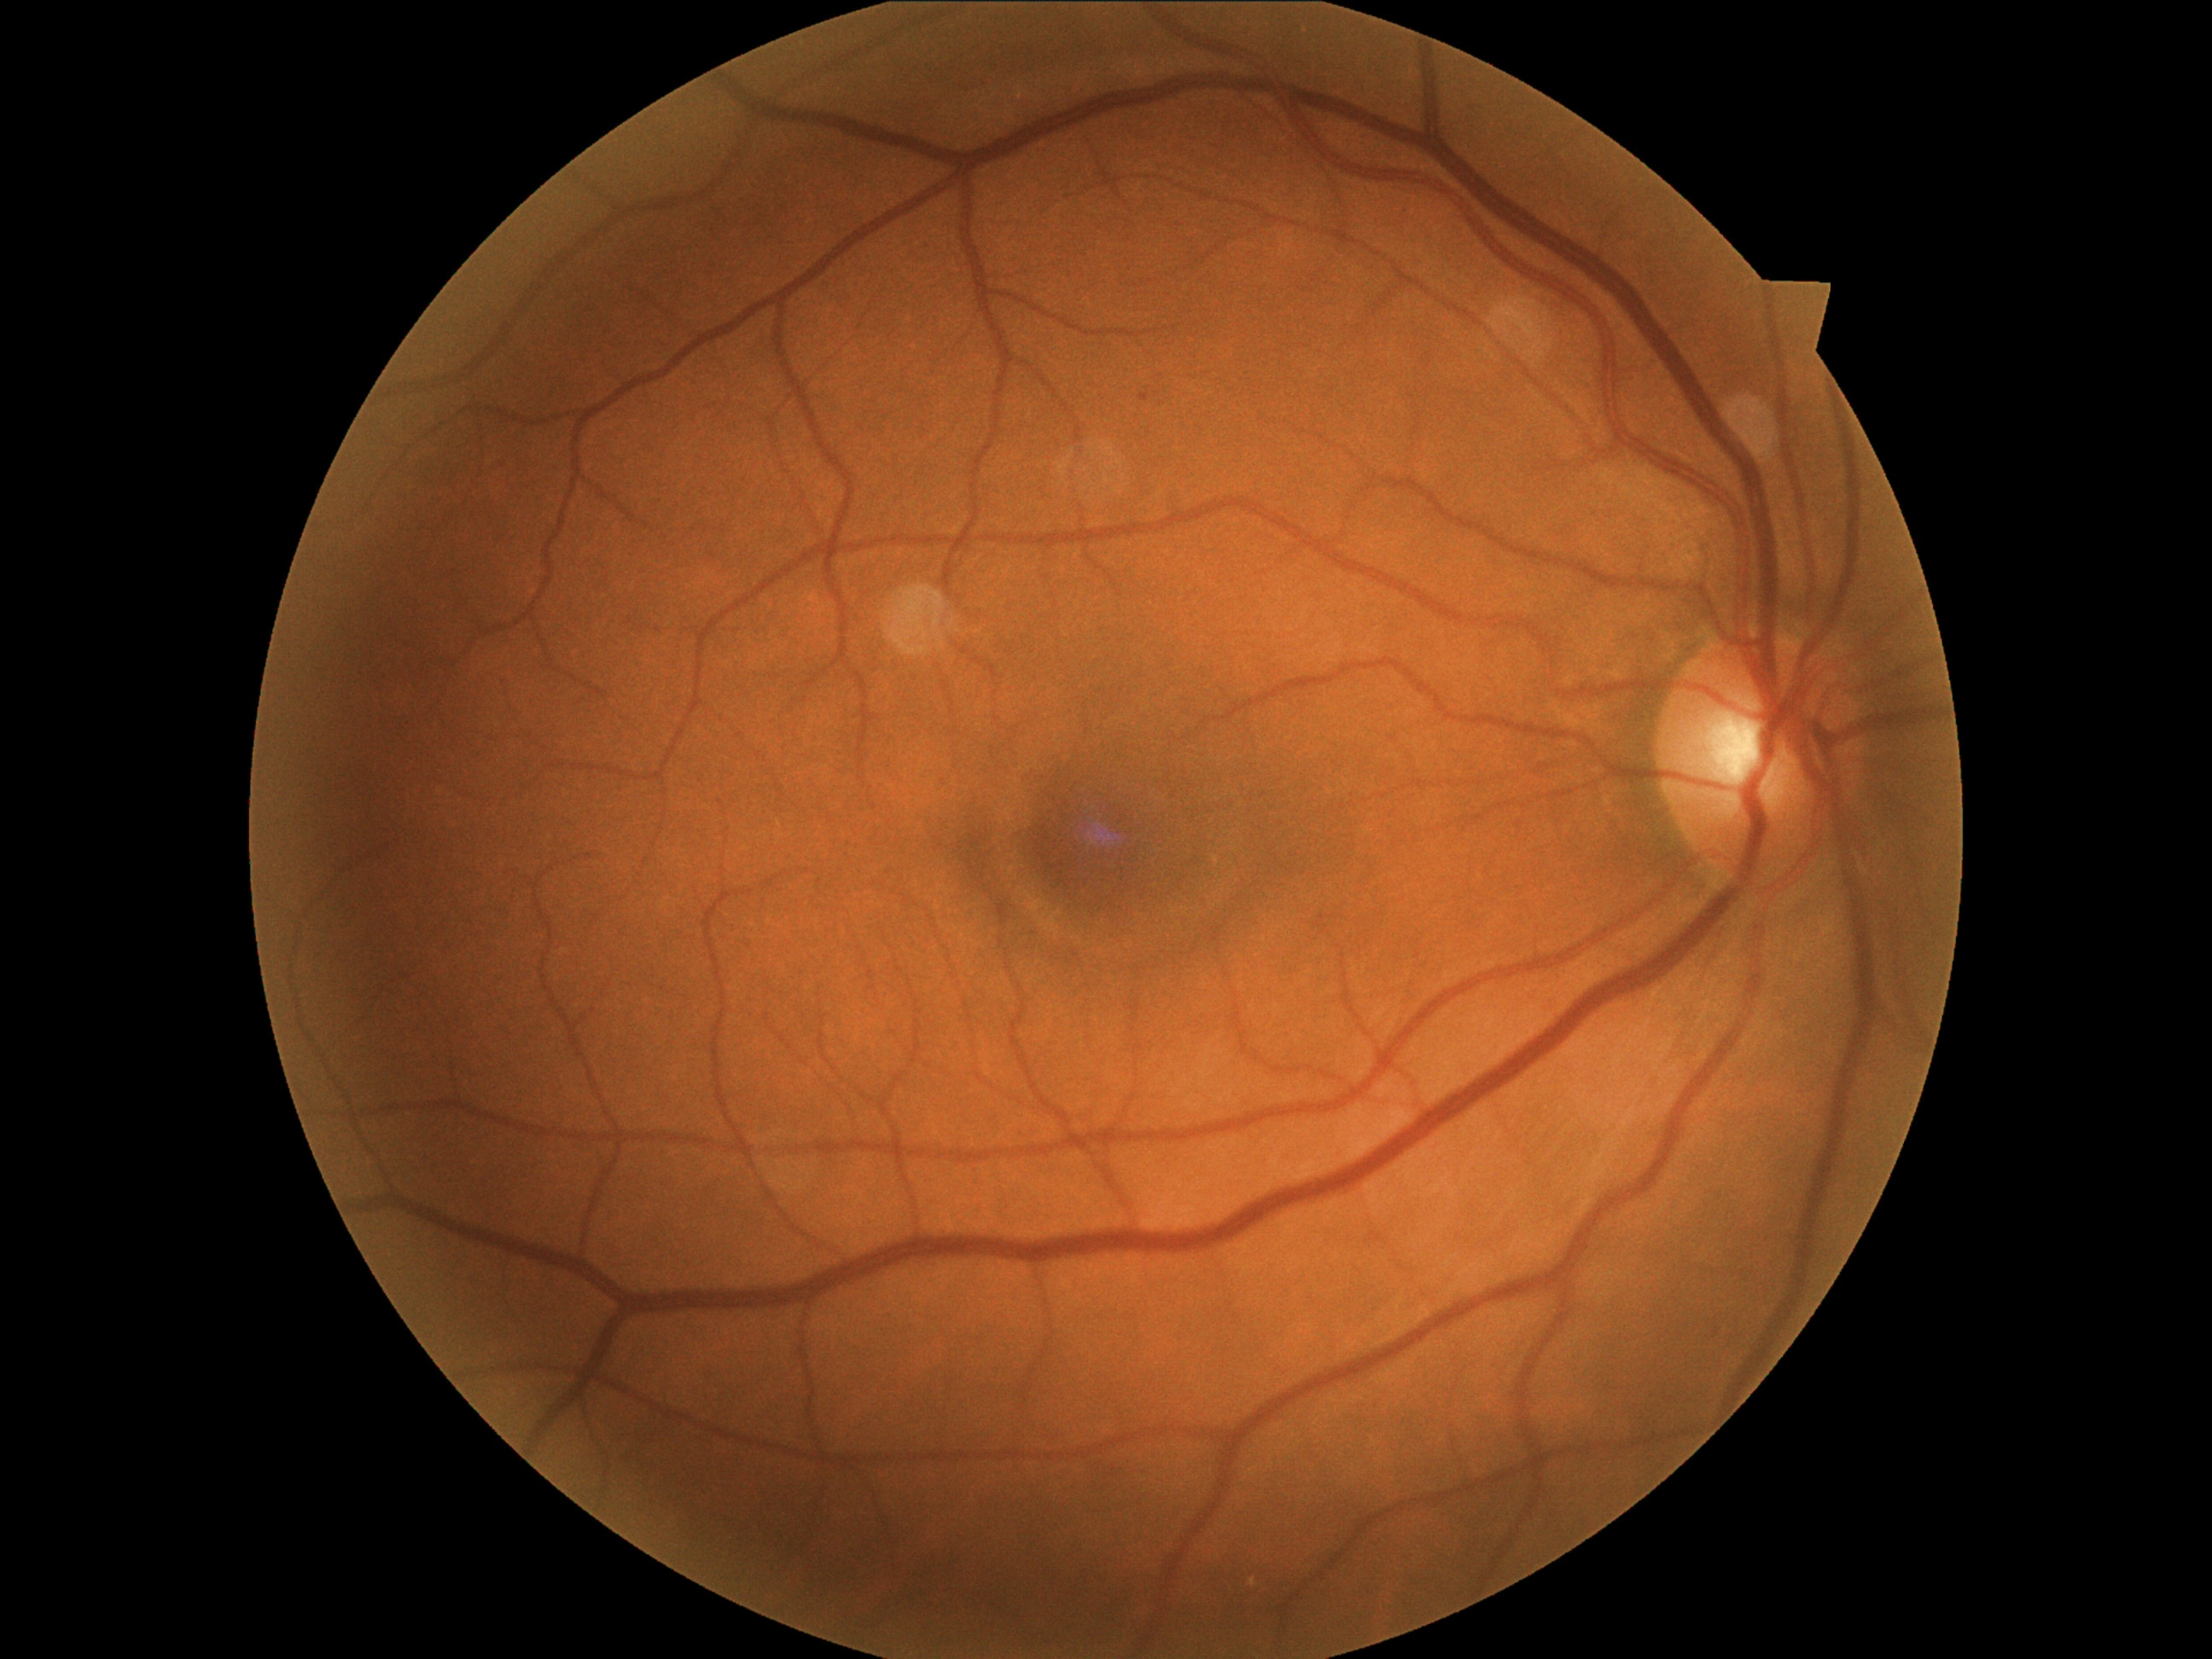Fovea: (981, 718, 1219, 958)
OD: (1639, 619, 1907, 927)
